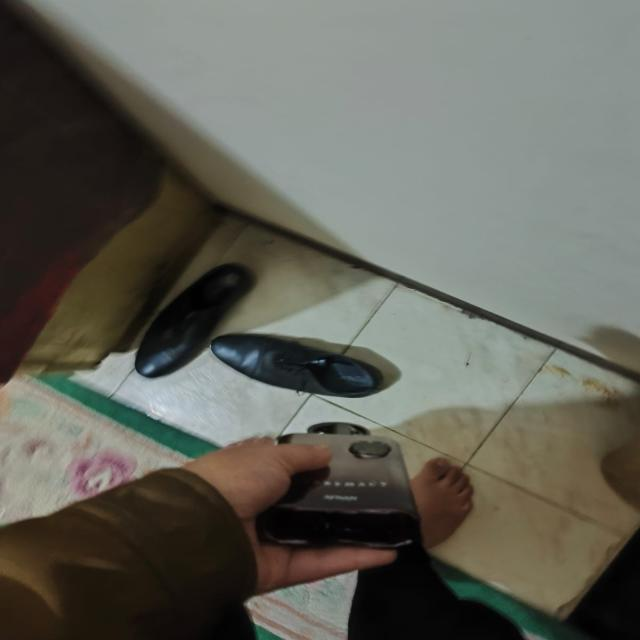Afnan: (254, 422, 424, 551)
